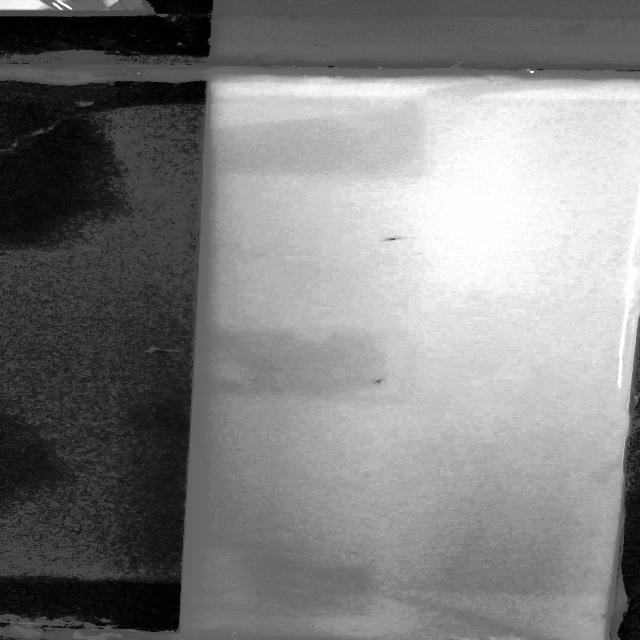shrimp: (379, 232, 422, 246), (370, 372, 399, 388)
